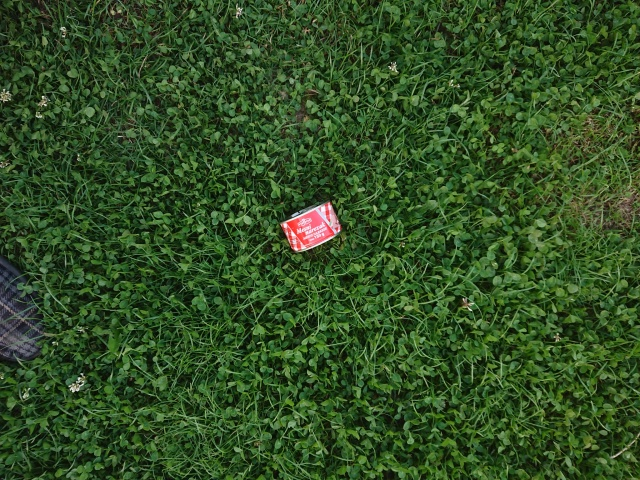Podravka Luncheon Meat 150g: (277, 197, 344, 254)
